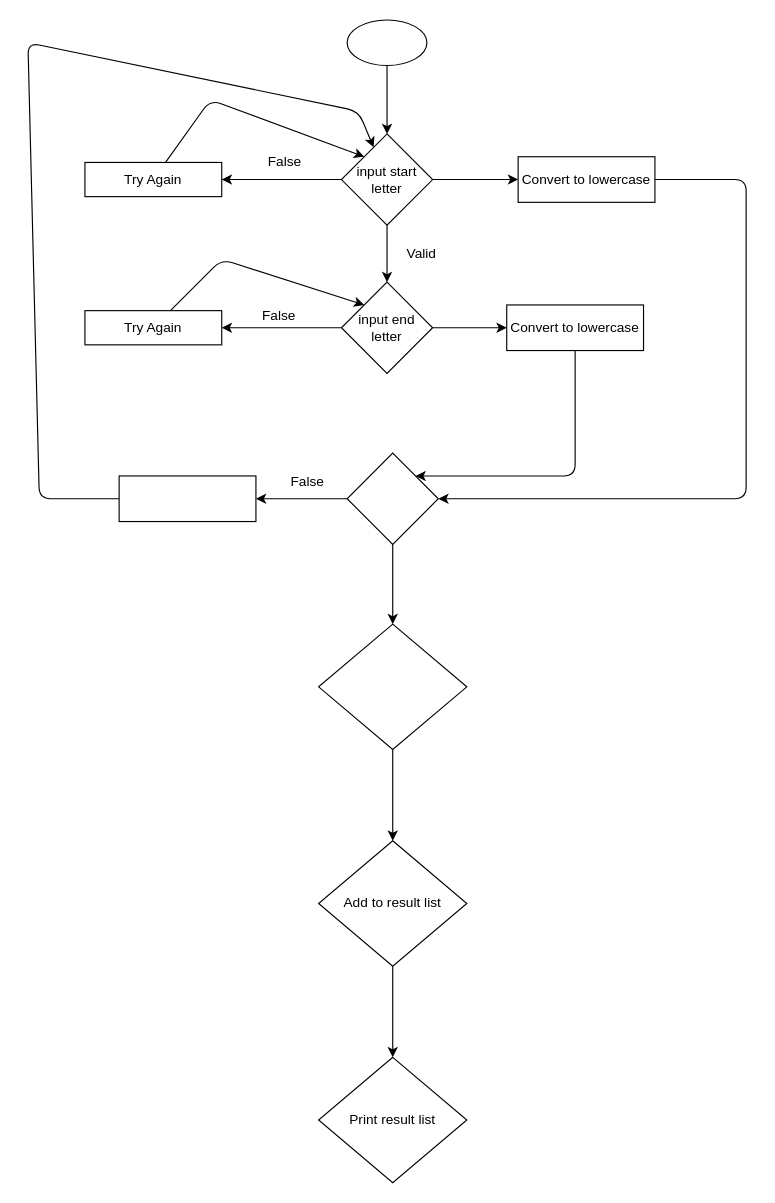
Image size: 775x1203. Some labels were removed from this diagram. Here are the shapes that lost their labels. From the top down, the centre of each, then its label:
point (386, 42): Start
point (187, 498): Error Try Again
point (392, 498): Order Check
point (392, 686): Generate Next letter using for loop
